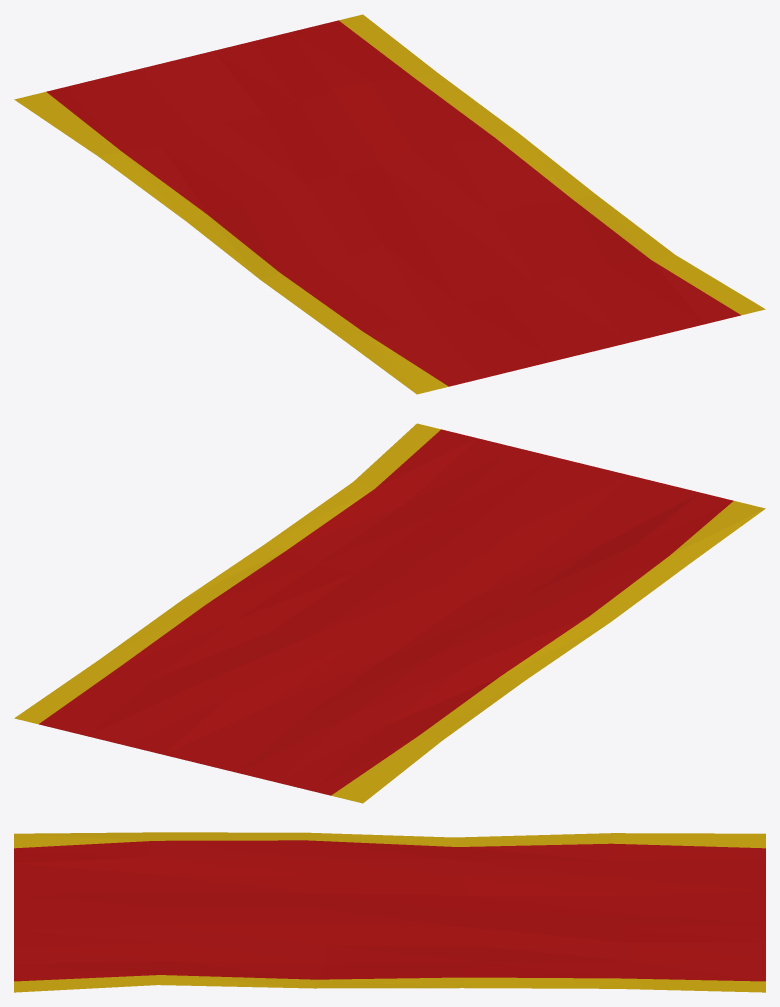
File: RG-Dungeon_RedCarpet-Seamless.fbx
3 renders of one model, top to bottom at view 1: azimuth 30°, elevation 25°; view 2: azimuth 150°, elevation 25°; view 3: azimuth 270°, elevation 25°, orthographic. The views are drawn at different scales.
Parts seen in each view (by area): view 1: RG-Dungeon_RedCarpet-Seamless; view 2: RG-Dungeon_RedCarpet-Seamless; view 3: RG-Dungeon_RedCarpet-Seamless.
Boxes of the visible parts, bbox=[...] form: RG-Dungeon_RedCarpet-Seamless: bbox=[14, 14, 765, 394]; RG-Dungeon_RedCarpet-Seamless: bbox=[14, 423, 765, 803]; RG-Dungeon_RedCarpet-Seamless: bbox=[14, 832, 765, 992].
Bounding box in the file's own units: 10.02 × 0.1151 × 20.
